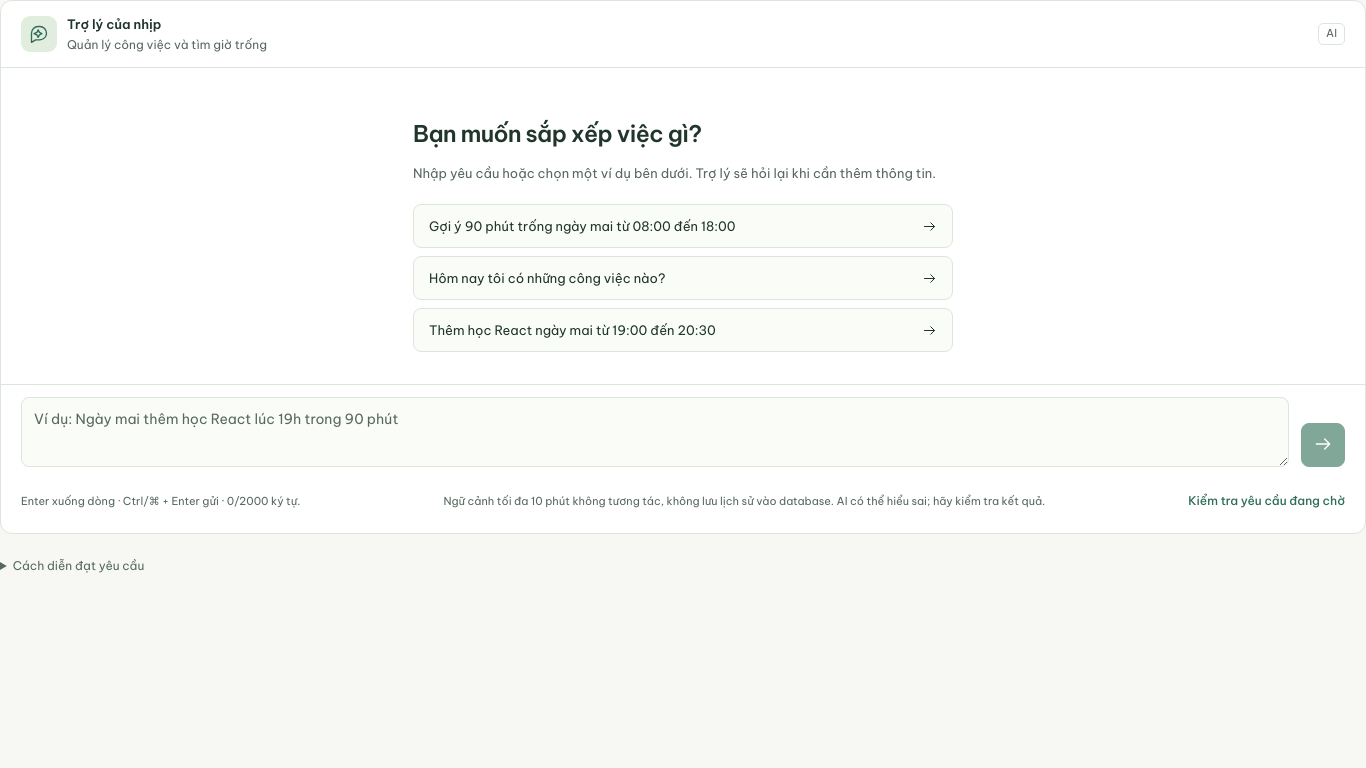
Scenario: mutated result refreshes shared data and expired flow clears confirm controls
In the text box named "Nội dung yêu cầu": (655,432) x1=21 y1=397 x2=1289 y2=467, type "Tạo việc"
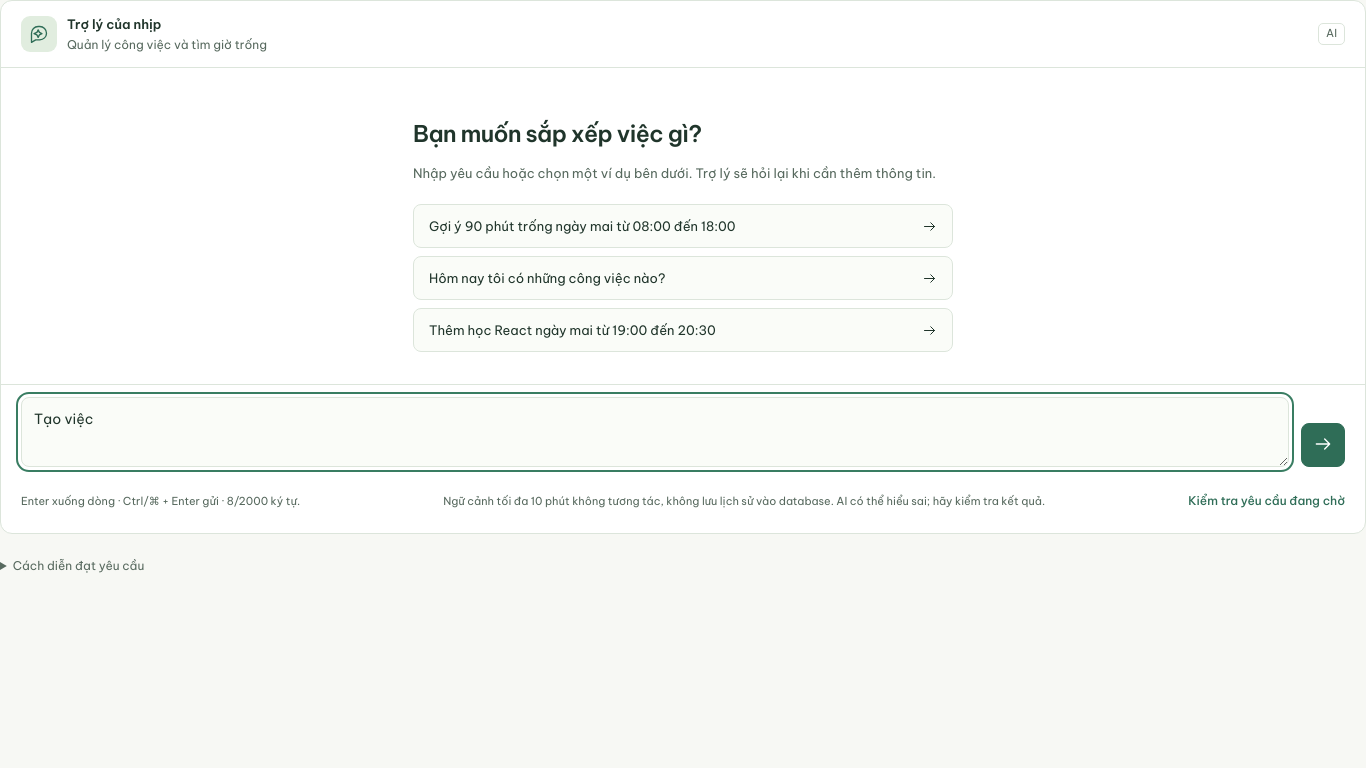
Click the button named "Gửi yêu cầu": (1323,445) x1=1301 y1=423 x2=1345 y2=467
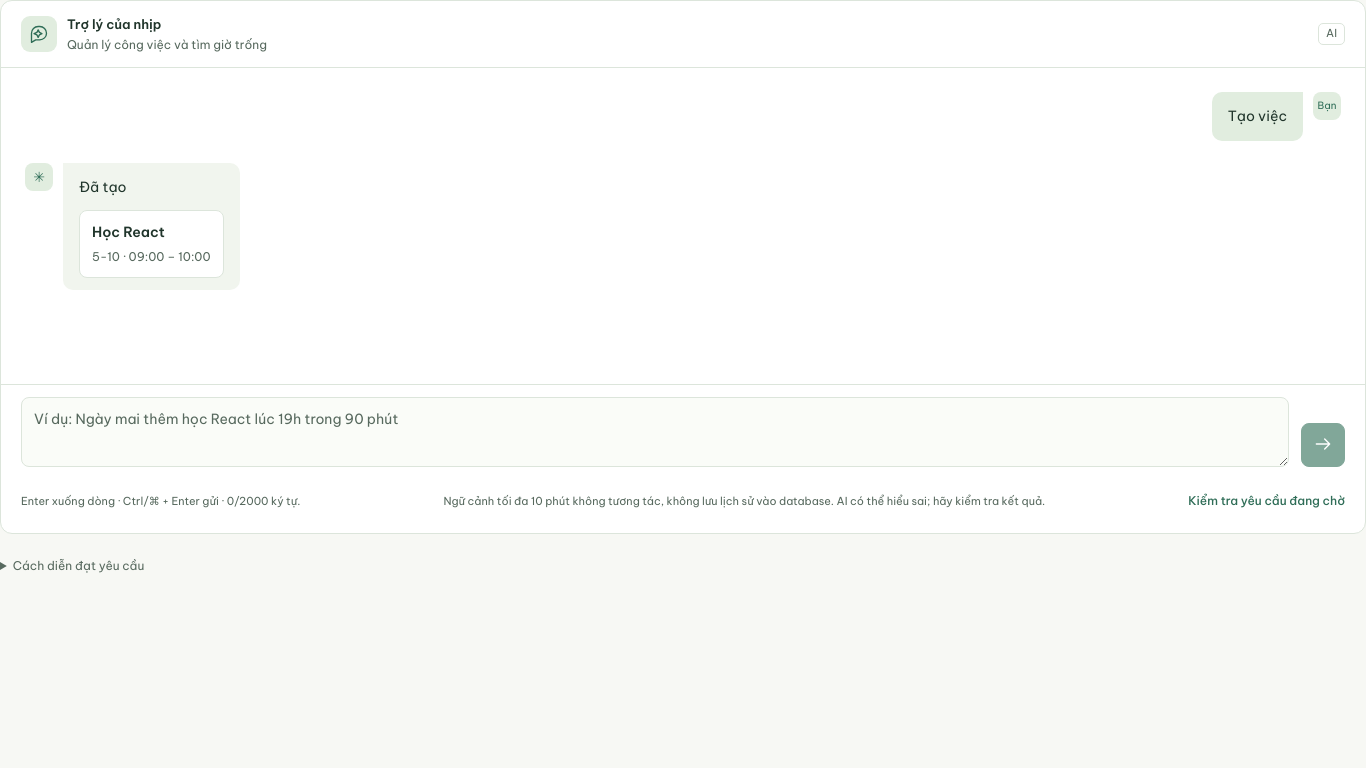
Check: the text "Đã tạo" is shown, box x1=79 y1=178 x2=126 y2=196
In the text box named "Nội dung yêu cầu": (655,432) x1=21 y1=397 x2=1289 y2=467, type "Xóa việc"
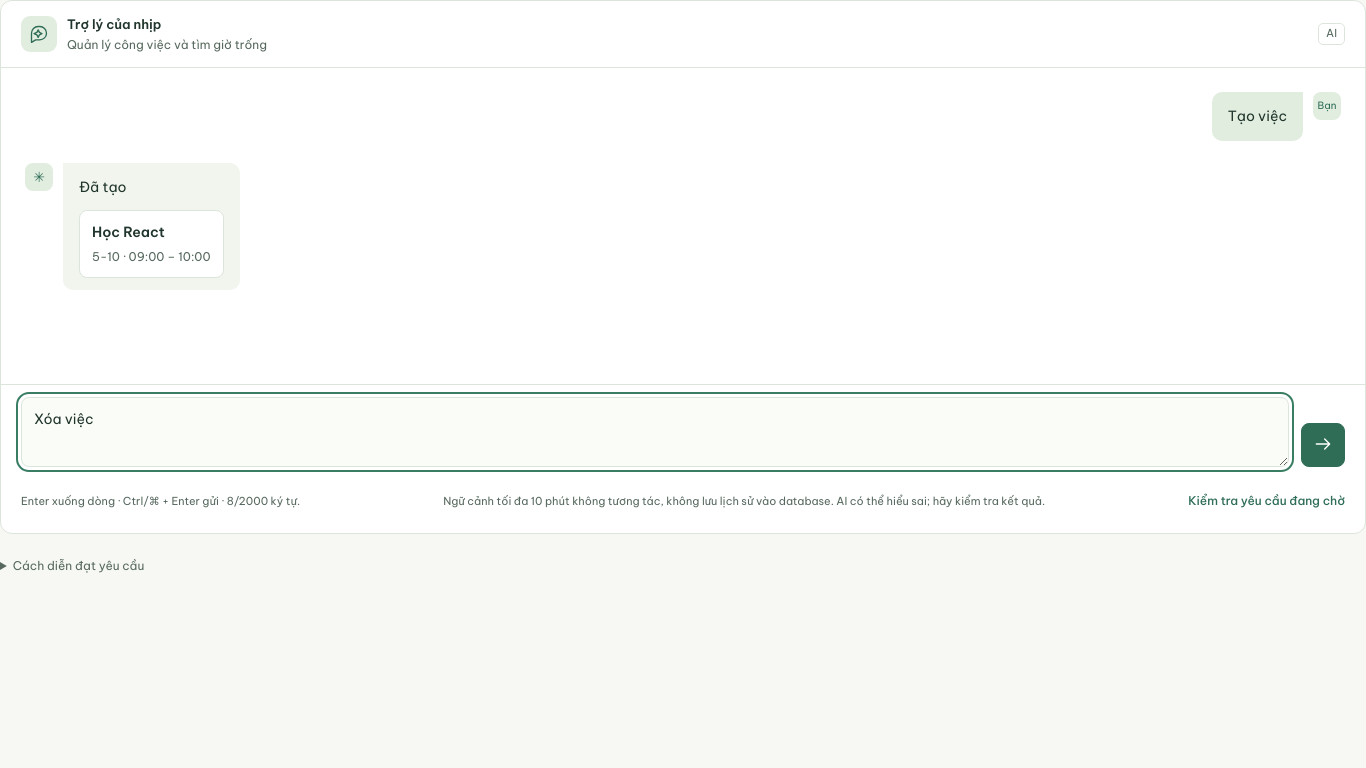
Click the button named "Gửi yêu cầu": (1323,445) x1=1301 y1=423 x2=1345 y2=467
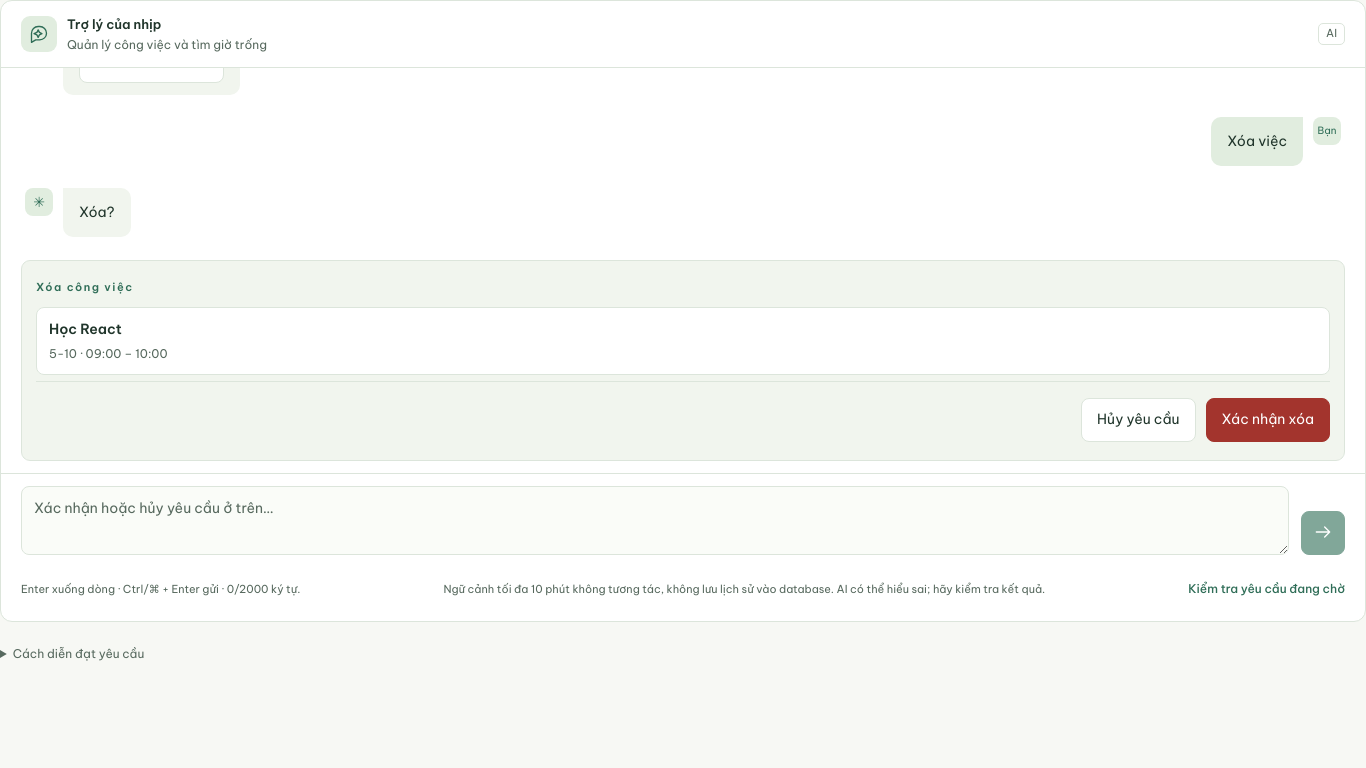
Check: the text "Xóa?" is shown, box x1=79 y1=200 x2=115 y2=225
Click the button "Xác nhận xóa": (1268,420) x1=1206 y1=398 x2=1330 y2=442
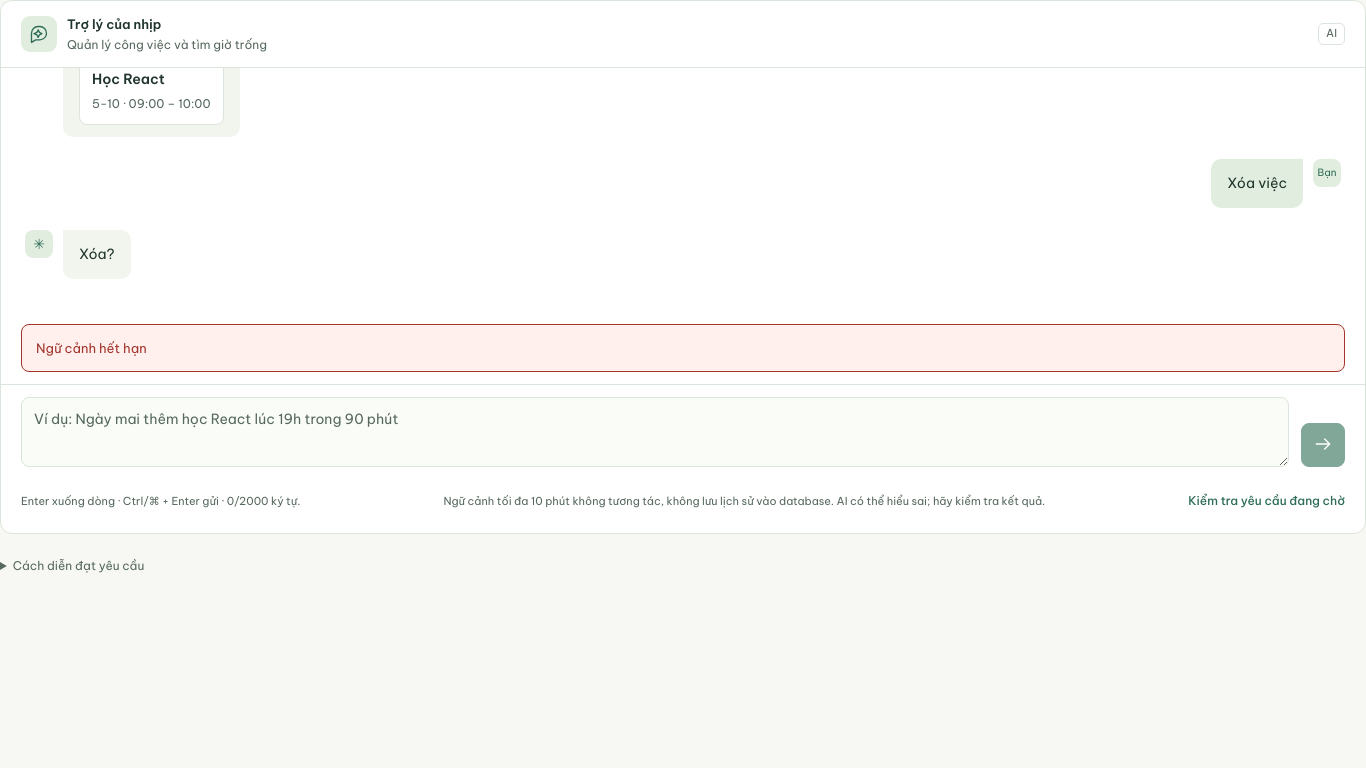
Check: the message shows "hết hạn", box x1=36 y1=340 x2=147 y2=356
Check: the button "Xác nhận xóa" is gone
Check: the text box named "Nội dung yêu cầu" is enabled, box x1=21 y1=397 x2=1289 y2=467
